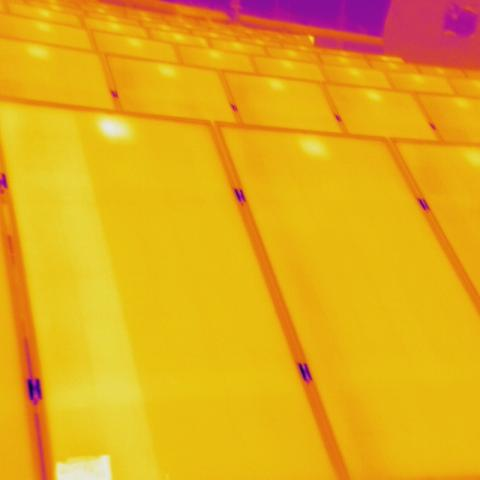fault: (44, 447, 118, 480), (98, 114, 128, 142)
